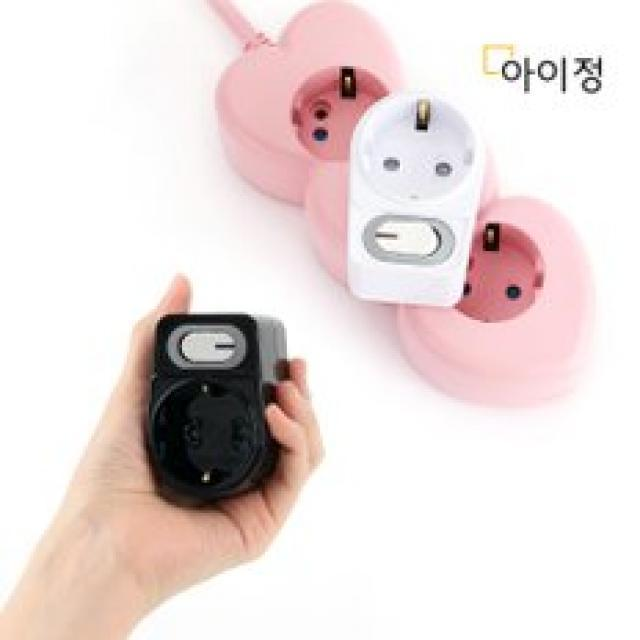typeb: (205, 0, 621, 417)
